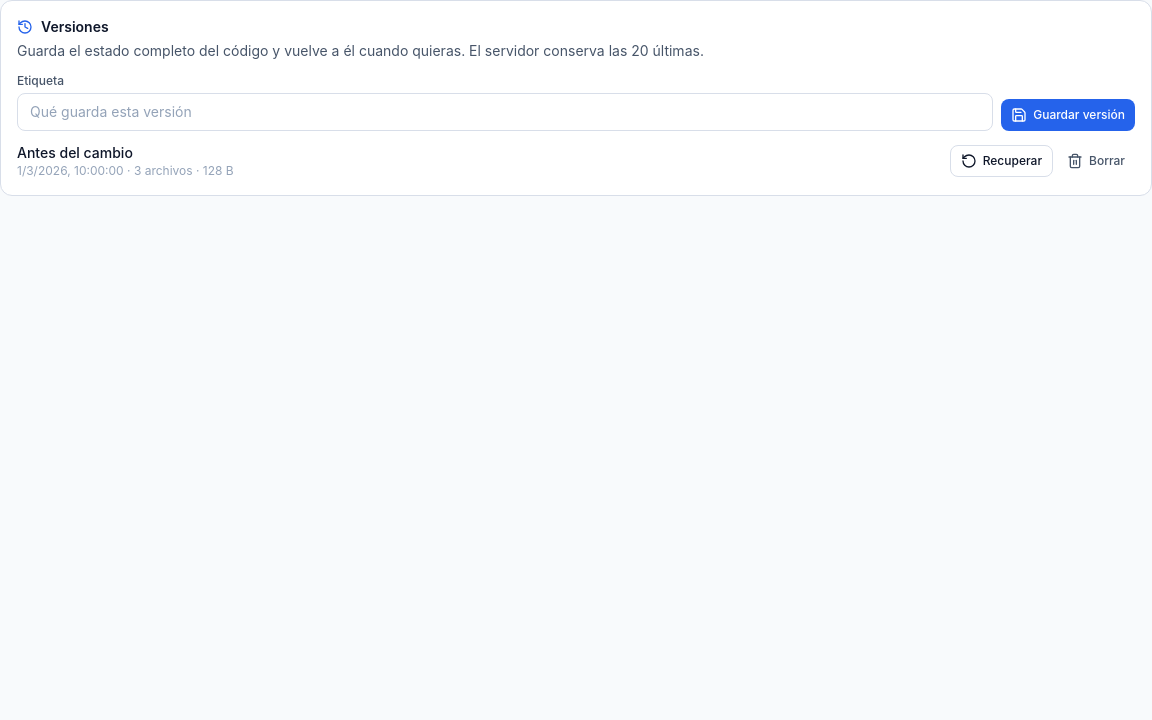
ProjectVersions › guarda una versión con la etiqueta escrita y refresca la lista
expect the text "Antes del cambio" is shown: met, box [17, 144, 133, 161]
Type "Hito 1" into the field labelled "Etiqueta" at (505, 112), box [17, 93, 993, 131]
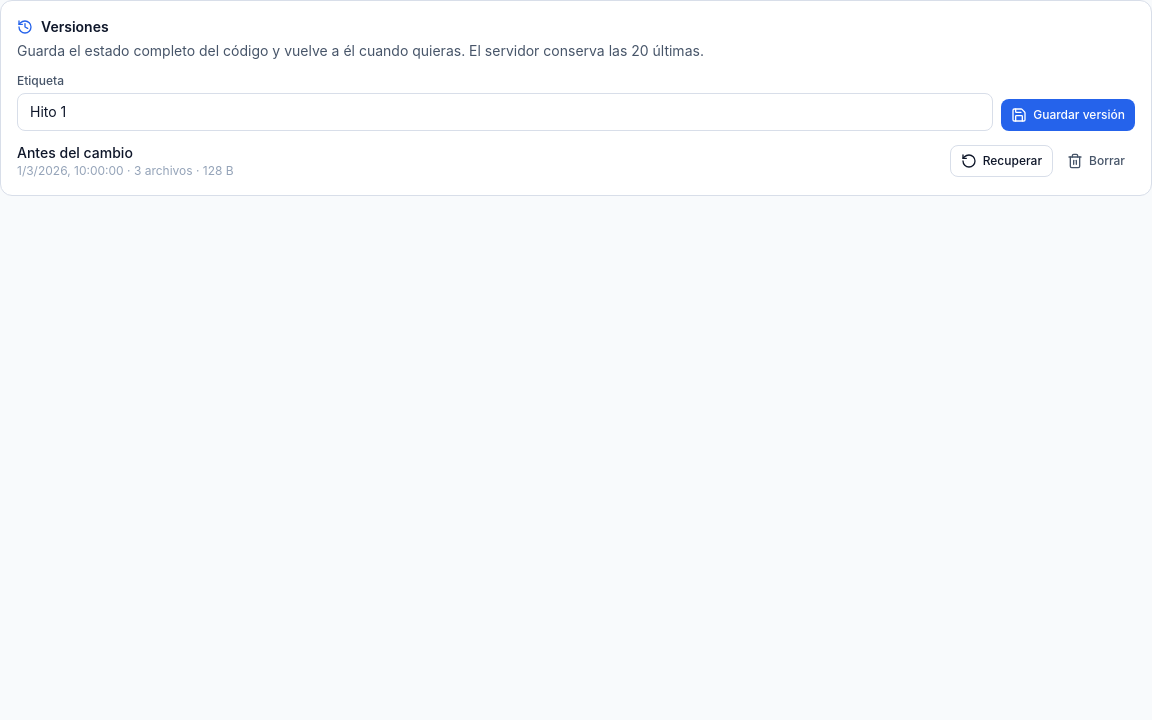
Click the button "Guardar versión" at (1068, 115), box [1001, 99, 1135, 131]
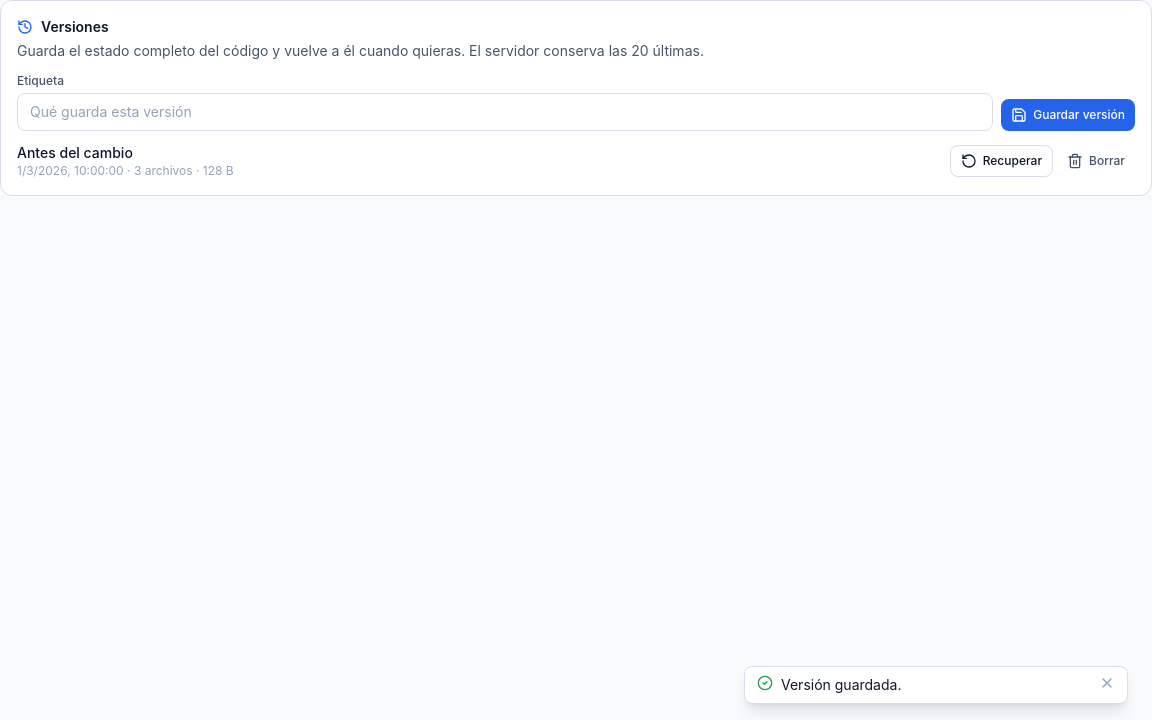
expect the text "Versión guardada." is shown: met, box [781, 676, 901, 693]
